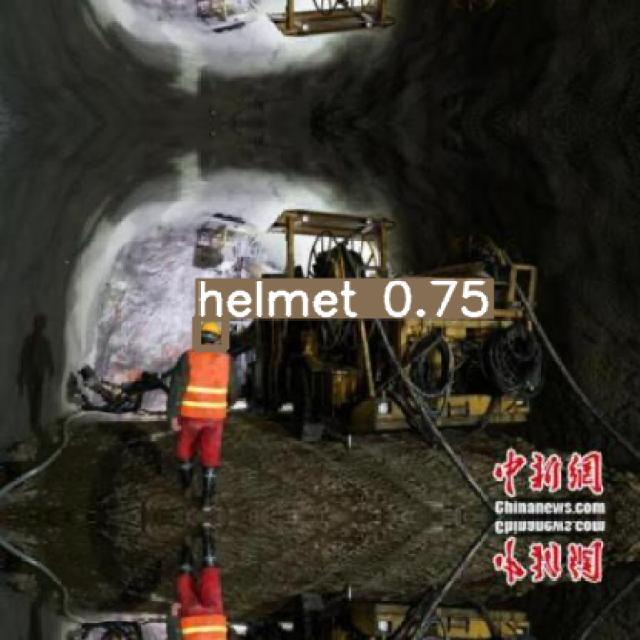yellow helmet: (201, 324, 223, 341)
